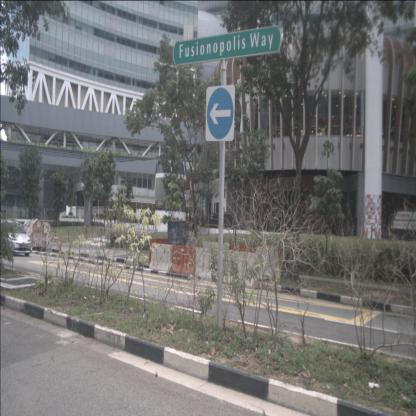human-pedestrian-adult: (109, 211, 113, 226), (107, 209, 110, 226), (114, 211, 116, 224), (94, 211, 96, 223)
movable_object-barrier: (223, 249, 260, 290), (194, 246, 226, 284), (255, 245, 280, 280), (229, 243, 255, 274), (148, 243, 174, 274), (170, 247, 196, 276), (147, 238, 169, 264), (56, 235, 62, 250)
vehicle-bicycle: (51, 230, 59, 242)
vehicle-car: (0, 219, 32, 256)
